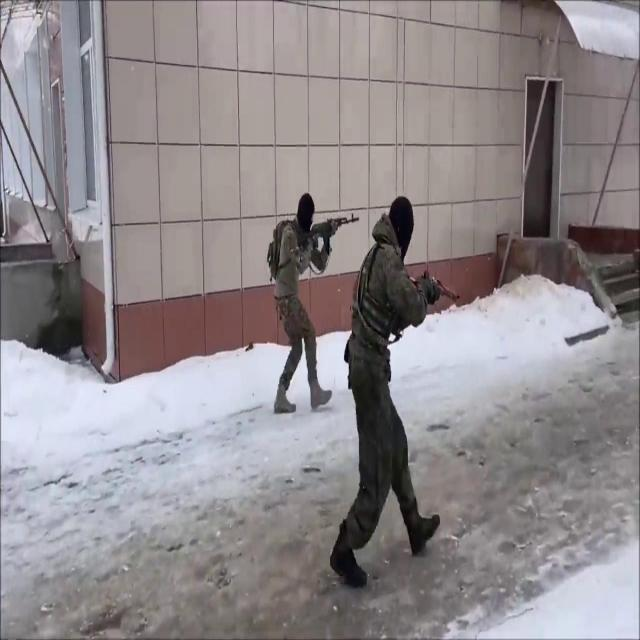pistol: (296, 212, 360, 255), (406, 268, 461, 305)
